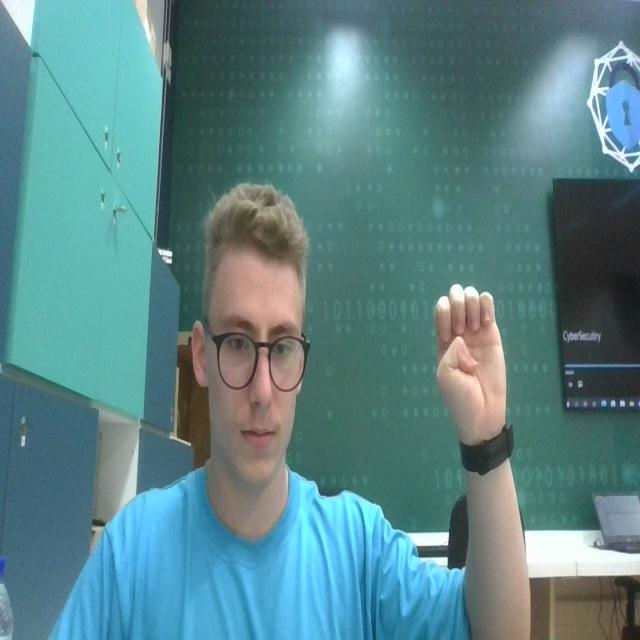E: (427, 271, 515, 442)
